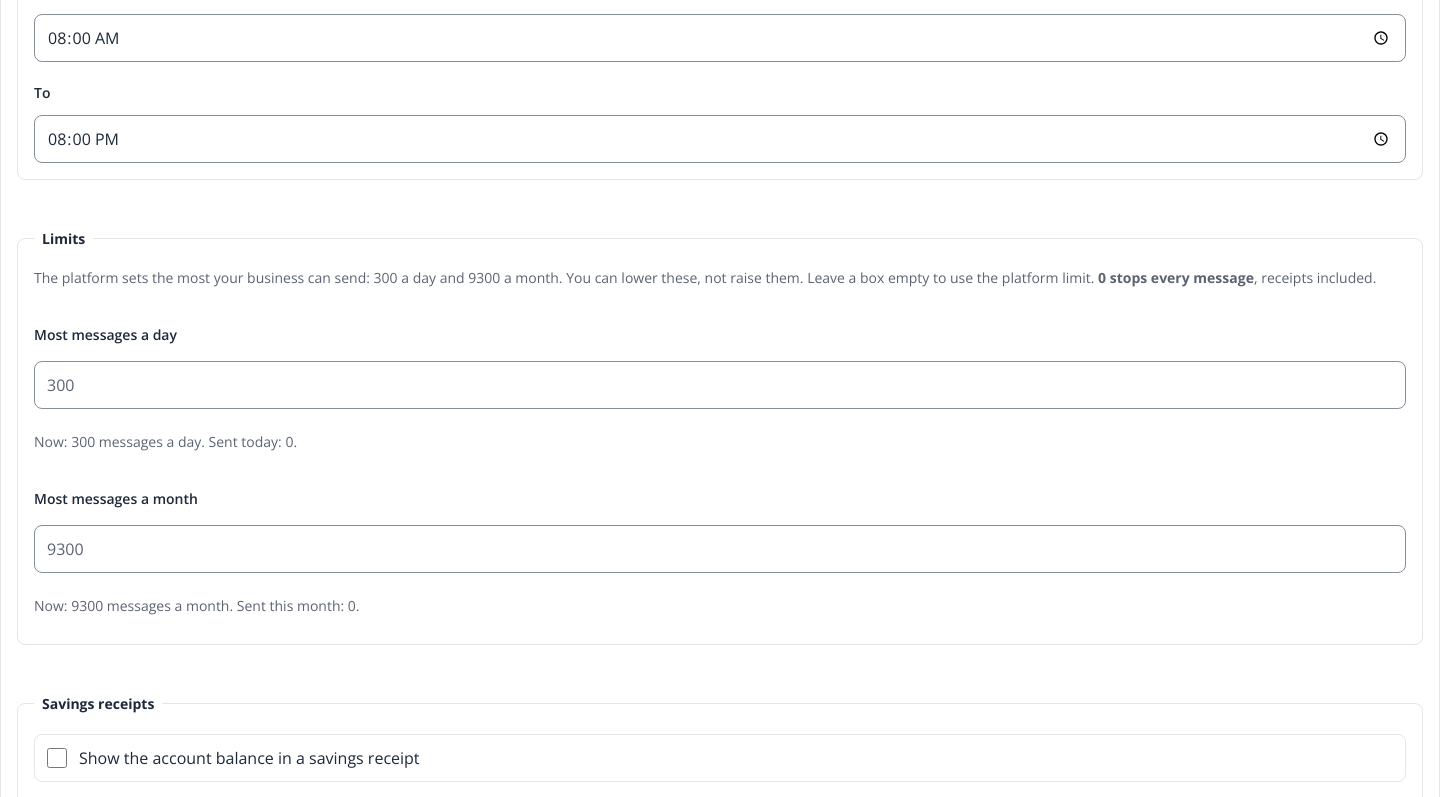
it: the settings form › refuses a cap above the ceiling on the screen and does not ask the server
(page scrolled)
Type "301" into the field labelled "Most messages a day".
click(720, 385); type("301")  # box [34,361,1406,409]
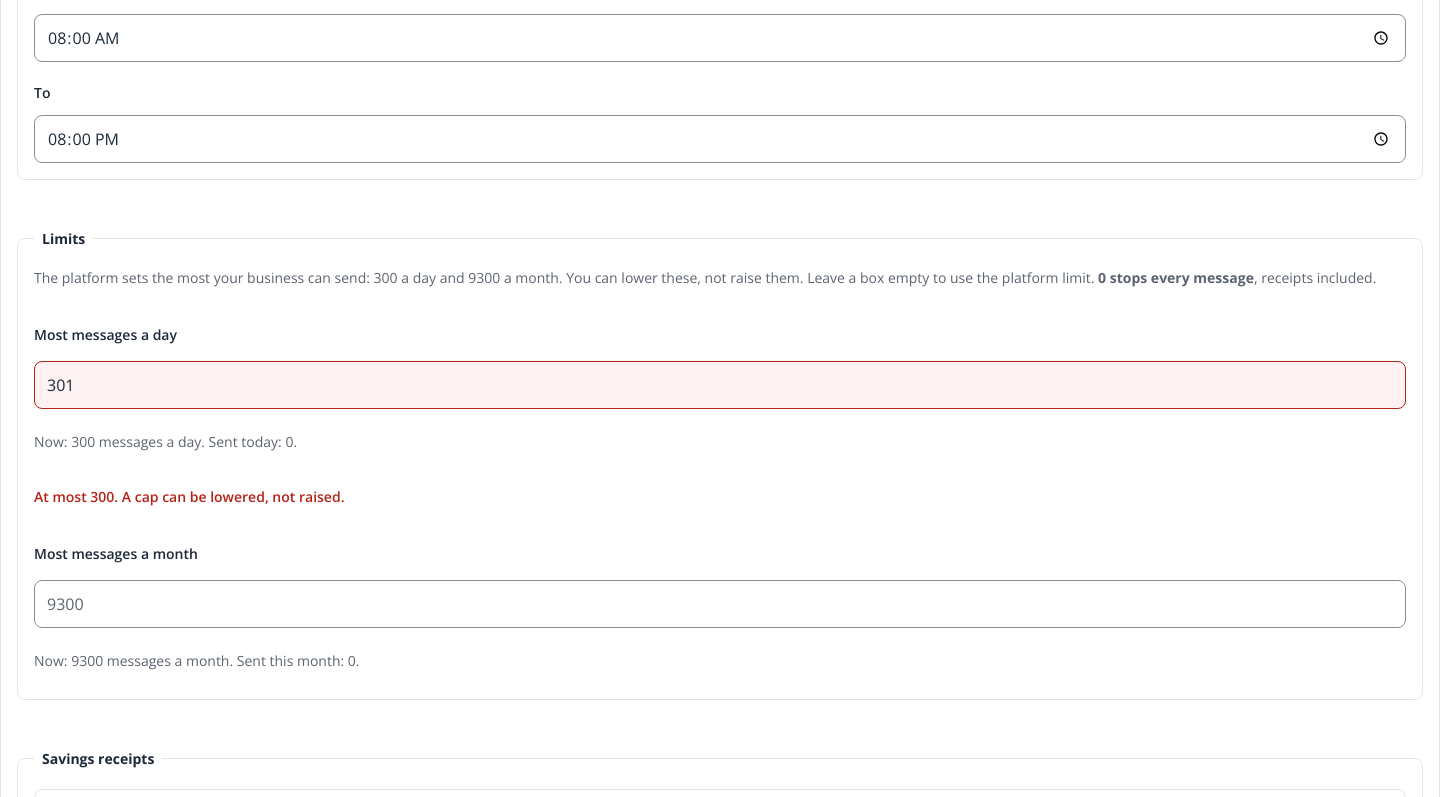
Check: the text "At most 300. A cap can be lowered, not raised." is shown, box [34,487,344,506]
Replace the text in the field labelled "Most messages a day" with "2.5" at [720, 385], box [34,361,1406,409]
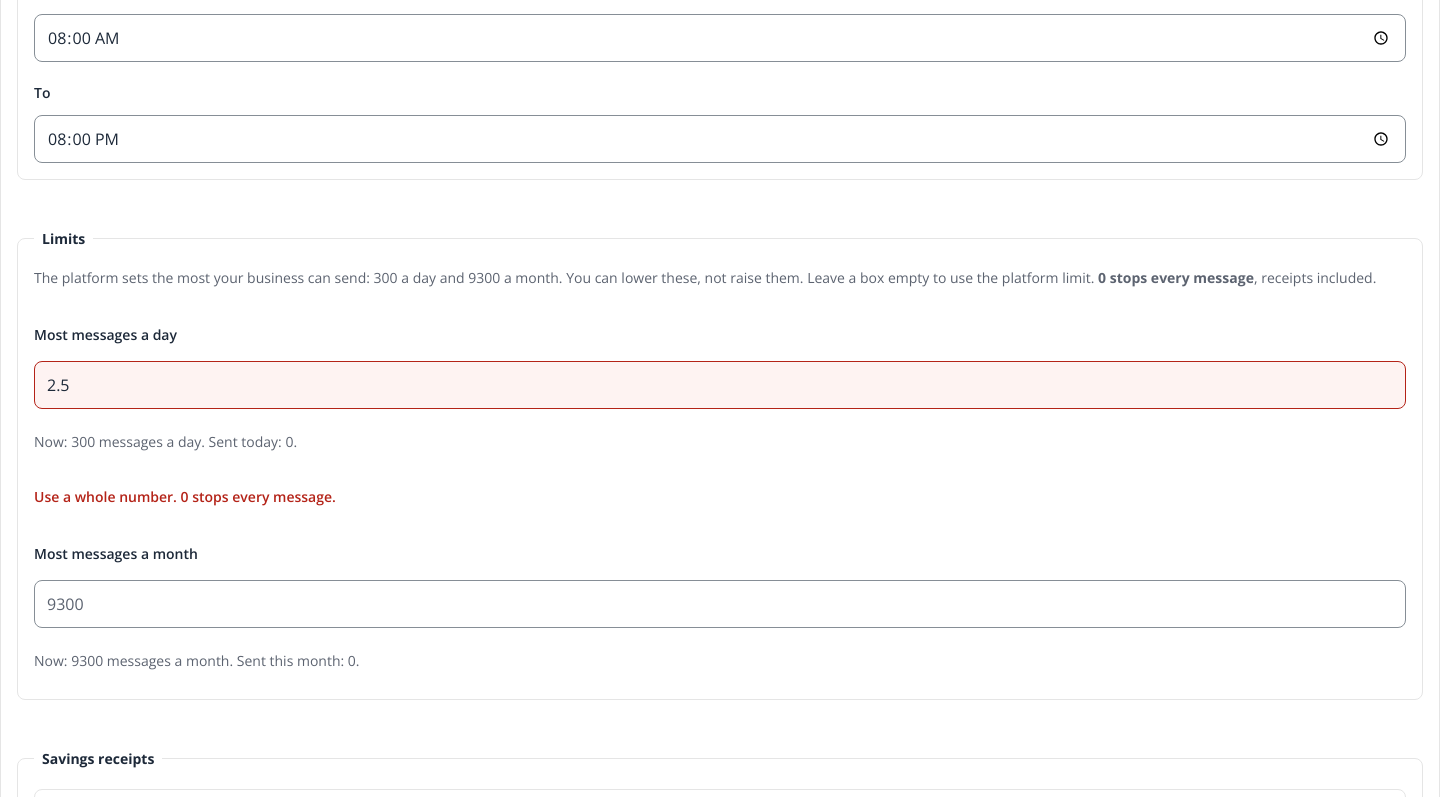
Check: the text "Use a whole number. 0 stops every message." is shown, box [34,487,336,506]
